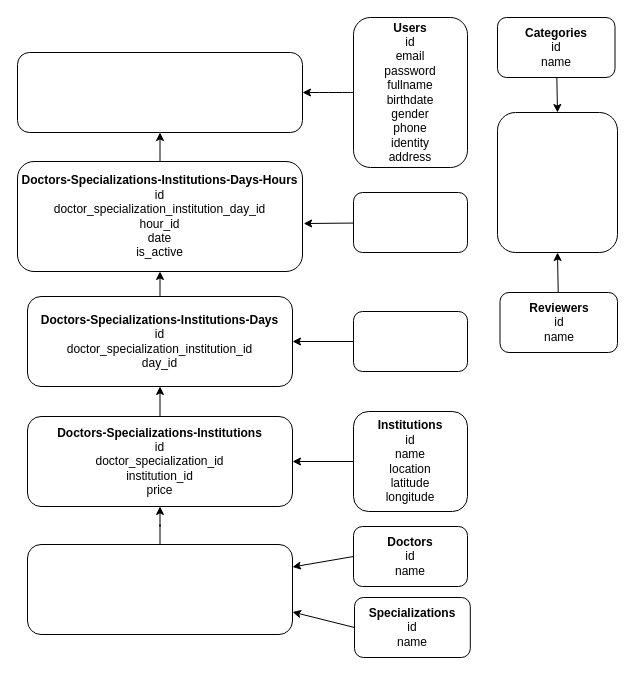
This 635x675 diagram has some shape labels left out. The shapes that lost their labels are listed below. From the top down, each one's box as (x1, y1, x2, y2) in pixels, then its label:
(16, 52, 302, 132): Bookings id user_id doctors_specializations_institutions_days_hour_id created_at
(496, 112, 618, 252): Articles id title category_id content image reviewer_id updated_at headline
(352, 192, 468, 252): Hours id name
(352, 310, 468, 372): Days id name
(26, 544, 292, 634): Doctors-Specializations id doctor_id specialization_id
